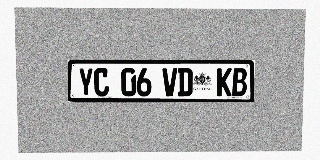0: (121, 68, 136, 96)
6: (137, 68, 151, 96)
B: (232, 68, 247, 96)
C: (94, 68, 109, 96)
D: (178, 68, 193, 96)
K: (217, 68, 232, 96)
V: (162, 68, 177, 96)
Y: (78, 68, 94, 96)
